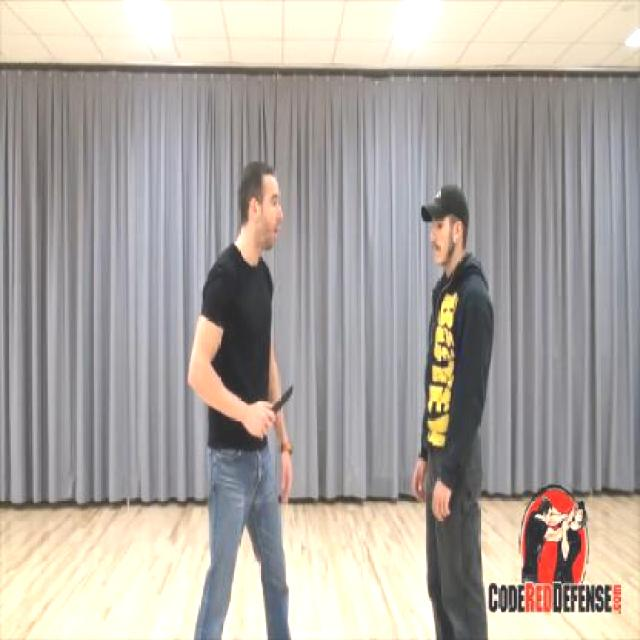knife: (257, 377, 295, 438)
